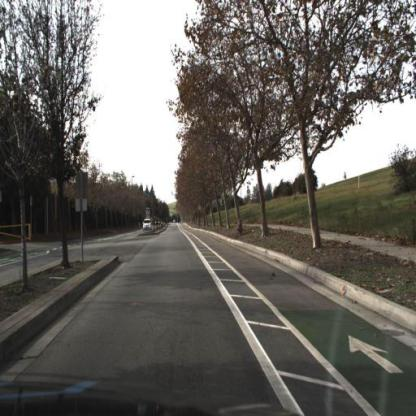car: (143, 219, 153, 231)
